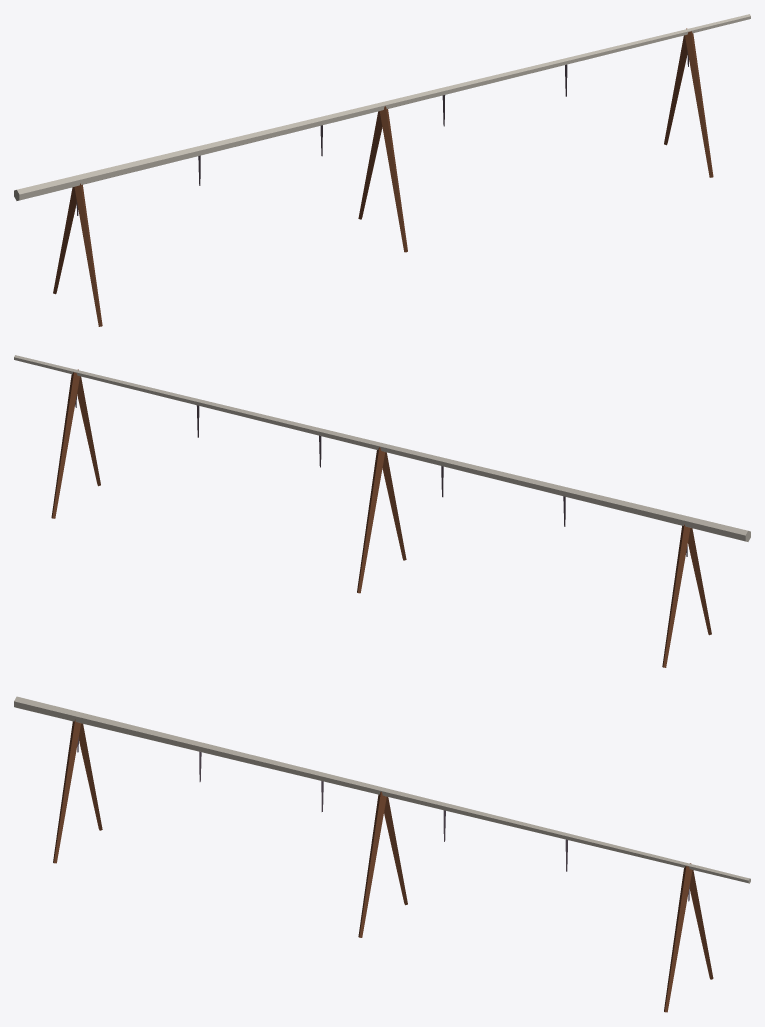
3 renders of one model, top to bottom at view 1: azimuth 30°, elevation 25°; view 2: azimuth 150°, elevation 25°; view 3: azimuth 330°, elevation 25°, orthographic.
Parts seen in each view (by area): view 1: body; view 2: body; view 3: body.
Part boxes in pixels (bbox=[...]): body: bbox=[14, 14, 750, 326]; body: bbox=[14, 355, 750, 667]; body: bbox=[14, 696, 750, 1012].
Bounding box in the file's own units: 12 × 2.12 × 1.36.
